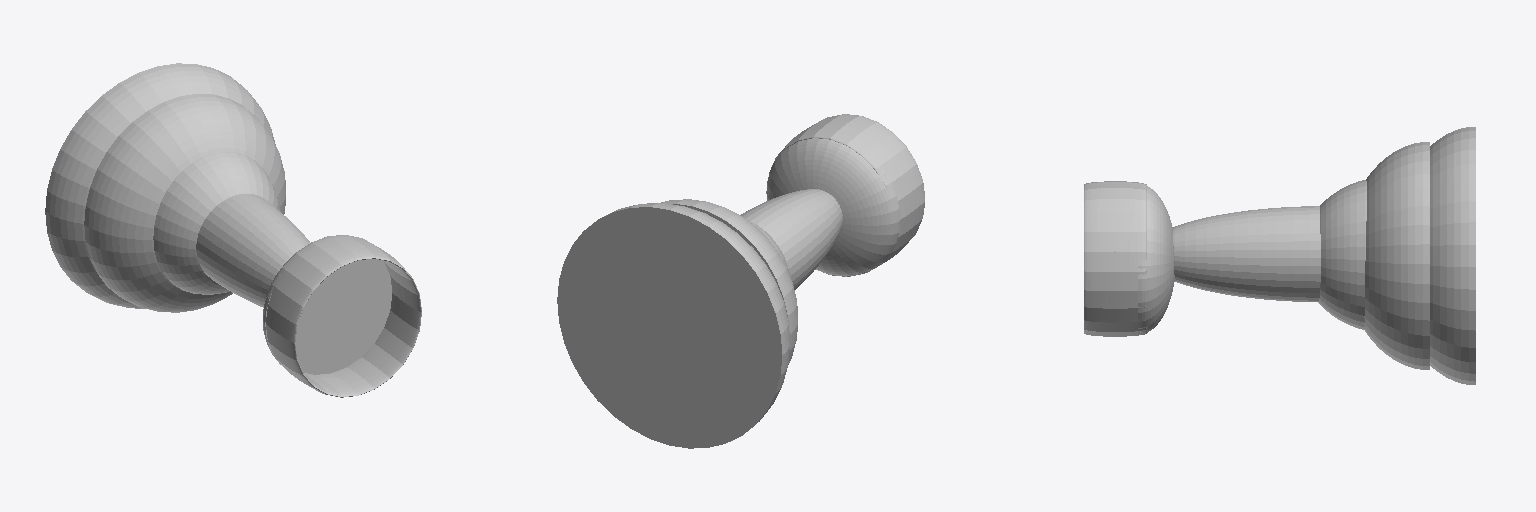
The model's file is rook.obj.
The picture shows the model from 3 angles: view 1: azimuth 30°, elevation 25°; view 2: azimuth 150°, elevation 25°; view 3: azimuth 270°, elevation 25°; orthographic projection.
Parts seen in each view (by area): view 1: obj_0; view 2: obj_0; view 3: obj_0.
Part boxes in pixels (x1,y1,x2,y2): obj_0: (45,63,421,397); obj_0: (557,114,924,448); obj_0: (1084,127,1475,384).
Bounding box in the file's own units: 4.94 × 4.94 × 7.46.